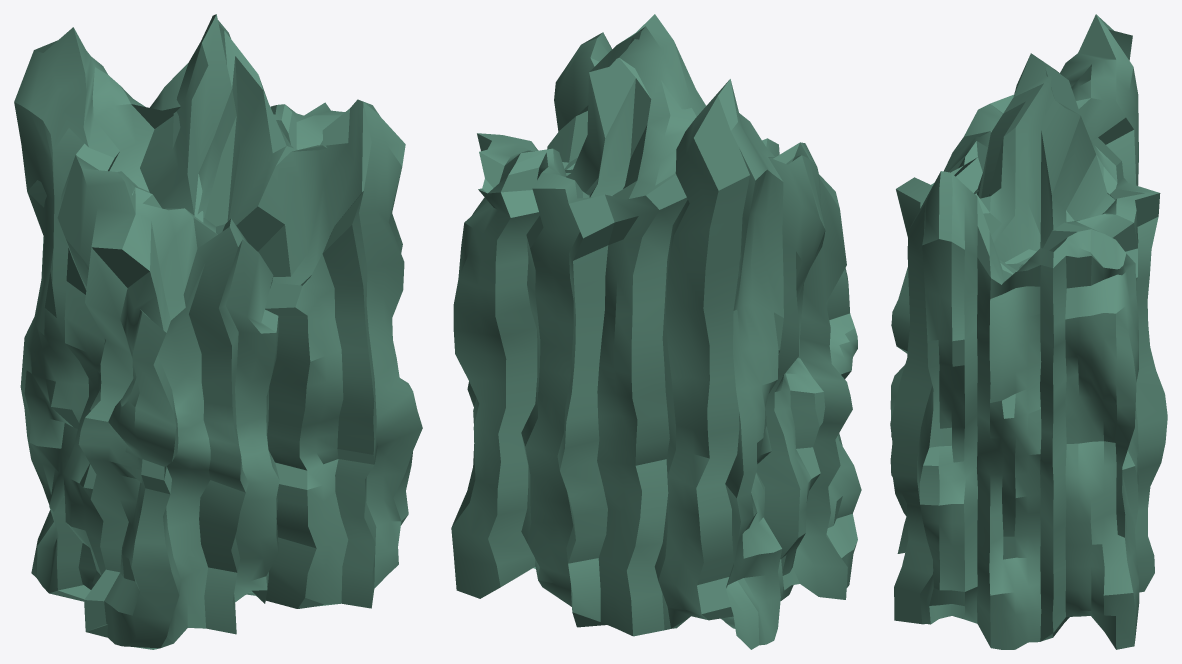
File: cliffs01.fbx
3 views of the same model, side by side, from view 1: azimuth 30°, elevation 25°; view 2: azimuth 150°, elevation 25°; view 3: azimuth 270°, elevation 25° (orthographic). The views are drawn at different scales.
Visible parts, largest first — view 1: Cube; view 2: Cube; view 3: Cube.
Boxes of the visible parts, x1,y1,x2,y2 form: Cube: (14, 14, 422, 649); Cube: (451, 14, 861, 649); Cube: (890, 14, 1167, 649).
Bounding box in the file's own units: 679 × 1093 × 511.
